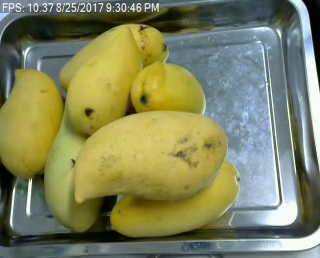Mango: (75, 110, 228, 204), (109, 161, 239, 238), (64, 27, 143, 138), (42, 101, 106, 230), (60, 23, 169, 98), (0, 69, 63, 181), (131, 62, 206, 117)
